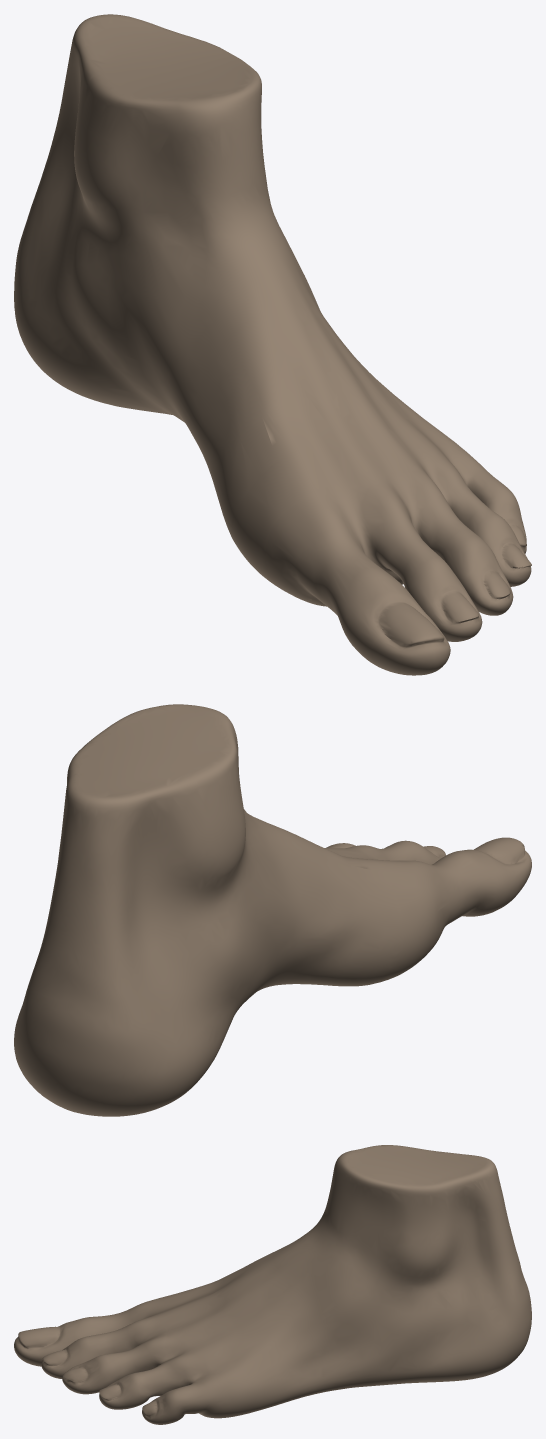
File: foot.roman.optimized.glb
3 views of the same model, one above another, from view 1: azimuth 30°, elevation 25°; view 2: azimuth 150°, elevation 25°; view 3: azimuth 270°, elevation 25° (orthographic). The views are drawn at different scales.
Visible parts, largest first — view 1: Foot_Roman; view 2: Foot_Roman; view 3: Foot_Roman.
Part boxes in pixels (left/top/right/bottom): Foot_Roman: left=14, top=14, right=531, bottom=675; Foot_Roman: left=14, top=704, right=531, bottom=1116; Foot_Roman: left=14, top=1145, right=531, bottom=1424.
Bounding box in the file's own units: 2.62 × 3.65 × 7.57.
